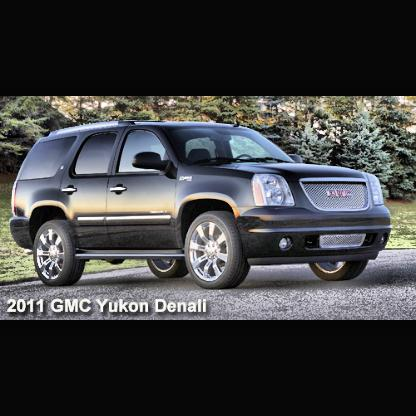GMC Yukon Hybrid SUV 2012: (10, 119, 396, 290)
